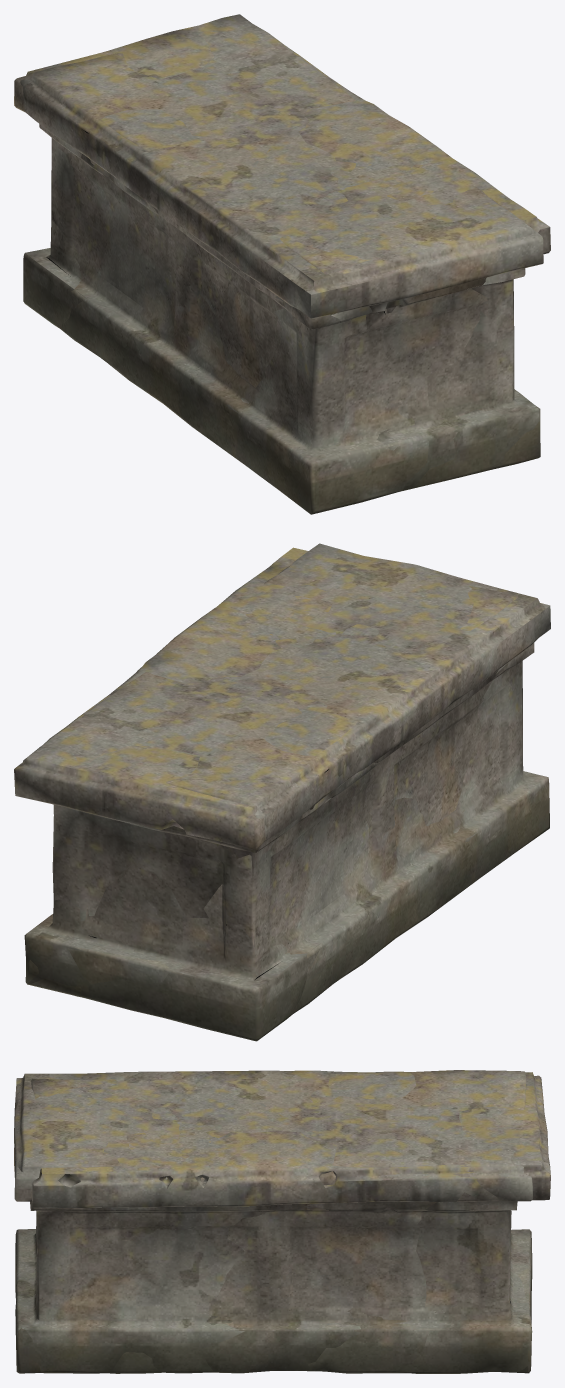
File: chest.glb
The picture shows the model from 3 angles, top to bottom: view 1: azimuth 30°, elevation 25°; view 2: azimuth 150°, elevation 25°; view 3: azimuth 270°, elevation 25°; orthographic projection. The views are drawn at different scales.
Visible parts, largest first — view 1: chest_b, chest_a; view 2: chest_a, chest_b; view 3: chest_b, chest_a.
Boxes of the visible parts, x1,y1,x2,y2 form: chest_b: (14, 14, 550, 514); chest_a: (20, 24, 543, 490); chest_a: (23, 543, 550, 1041); chest_b: (14, 547, 549, 1016); chest_b: (15, 1072, 550, 1373); chest_a: (14, 1070, 532, 1373).
Bounding box in the file's own units: 1.01 × 0.8949 × 2.09.
Materials: 1 (1 with a texture image).
